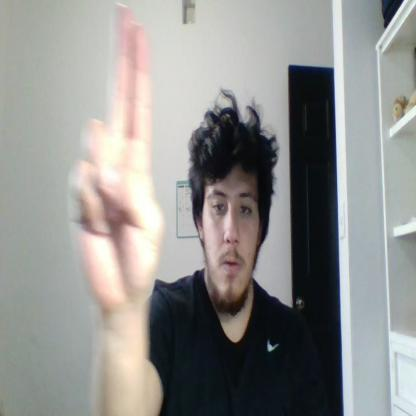U: (68, 0, 164, 311)
